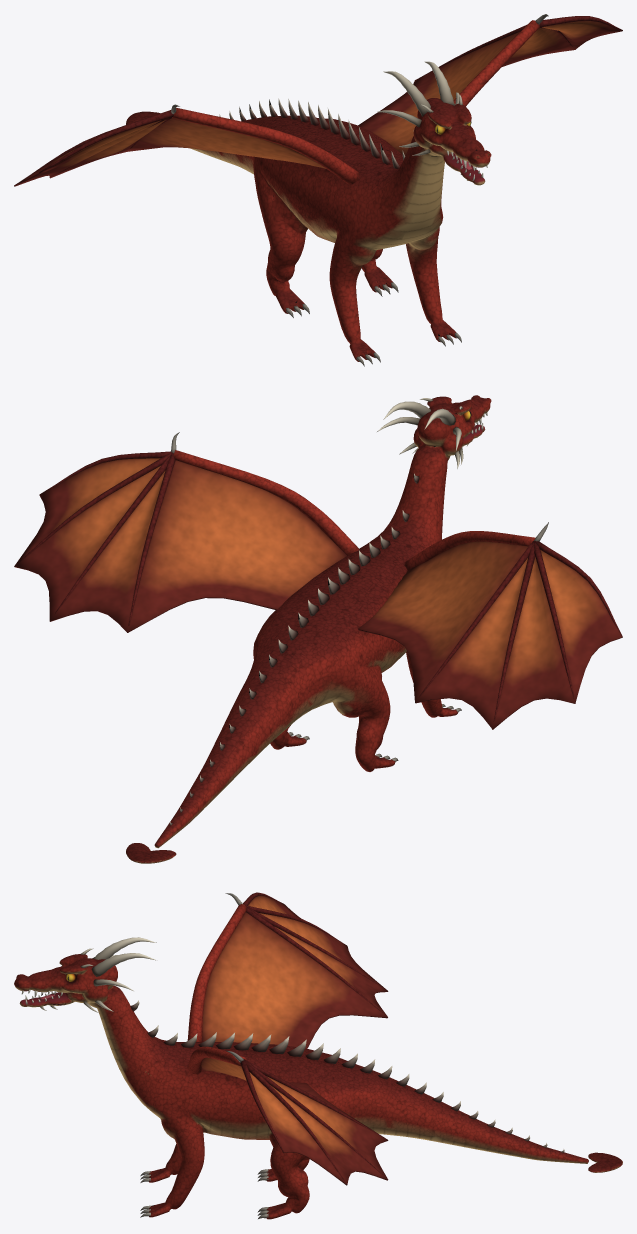
Rendered from dragon_hd.glb.
3 views of the same model, one above another, from view 1: azimuth 30°, elevation 25°; view 2: azimuth 150°, elevation 25°; view 3: azimuth 270°, elevation 25° (orthographic). The views are drawn at different scales.
Parts seen in each view (by area): view 1: Dragon; view 2: Dragon; view 3: Dragon.
Boxes of the visible parts, left/top/right/bottom form: Dragon: left=14, top=14, right=622, bottom=366; Dragon: left=14, top=395, right=622, bottom=863; Dragon: left=14, top=892, right=622, bottom=1219.
Bounding box in the file's own units: 15.82 × 7.46 × 16.37.
1 material, 1 textured.
